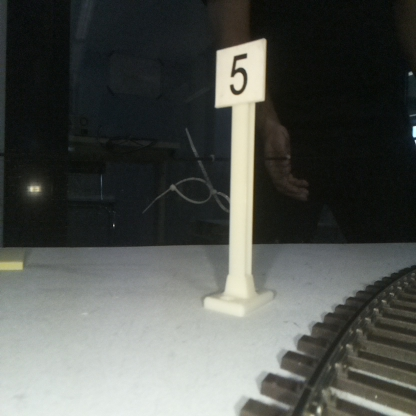white-info-5: (215, 41, 266, 309)
